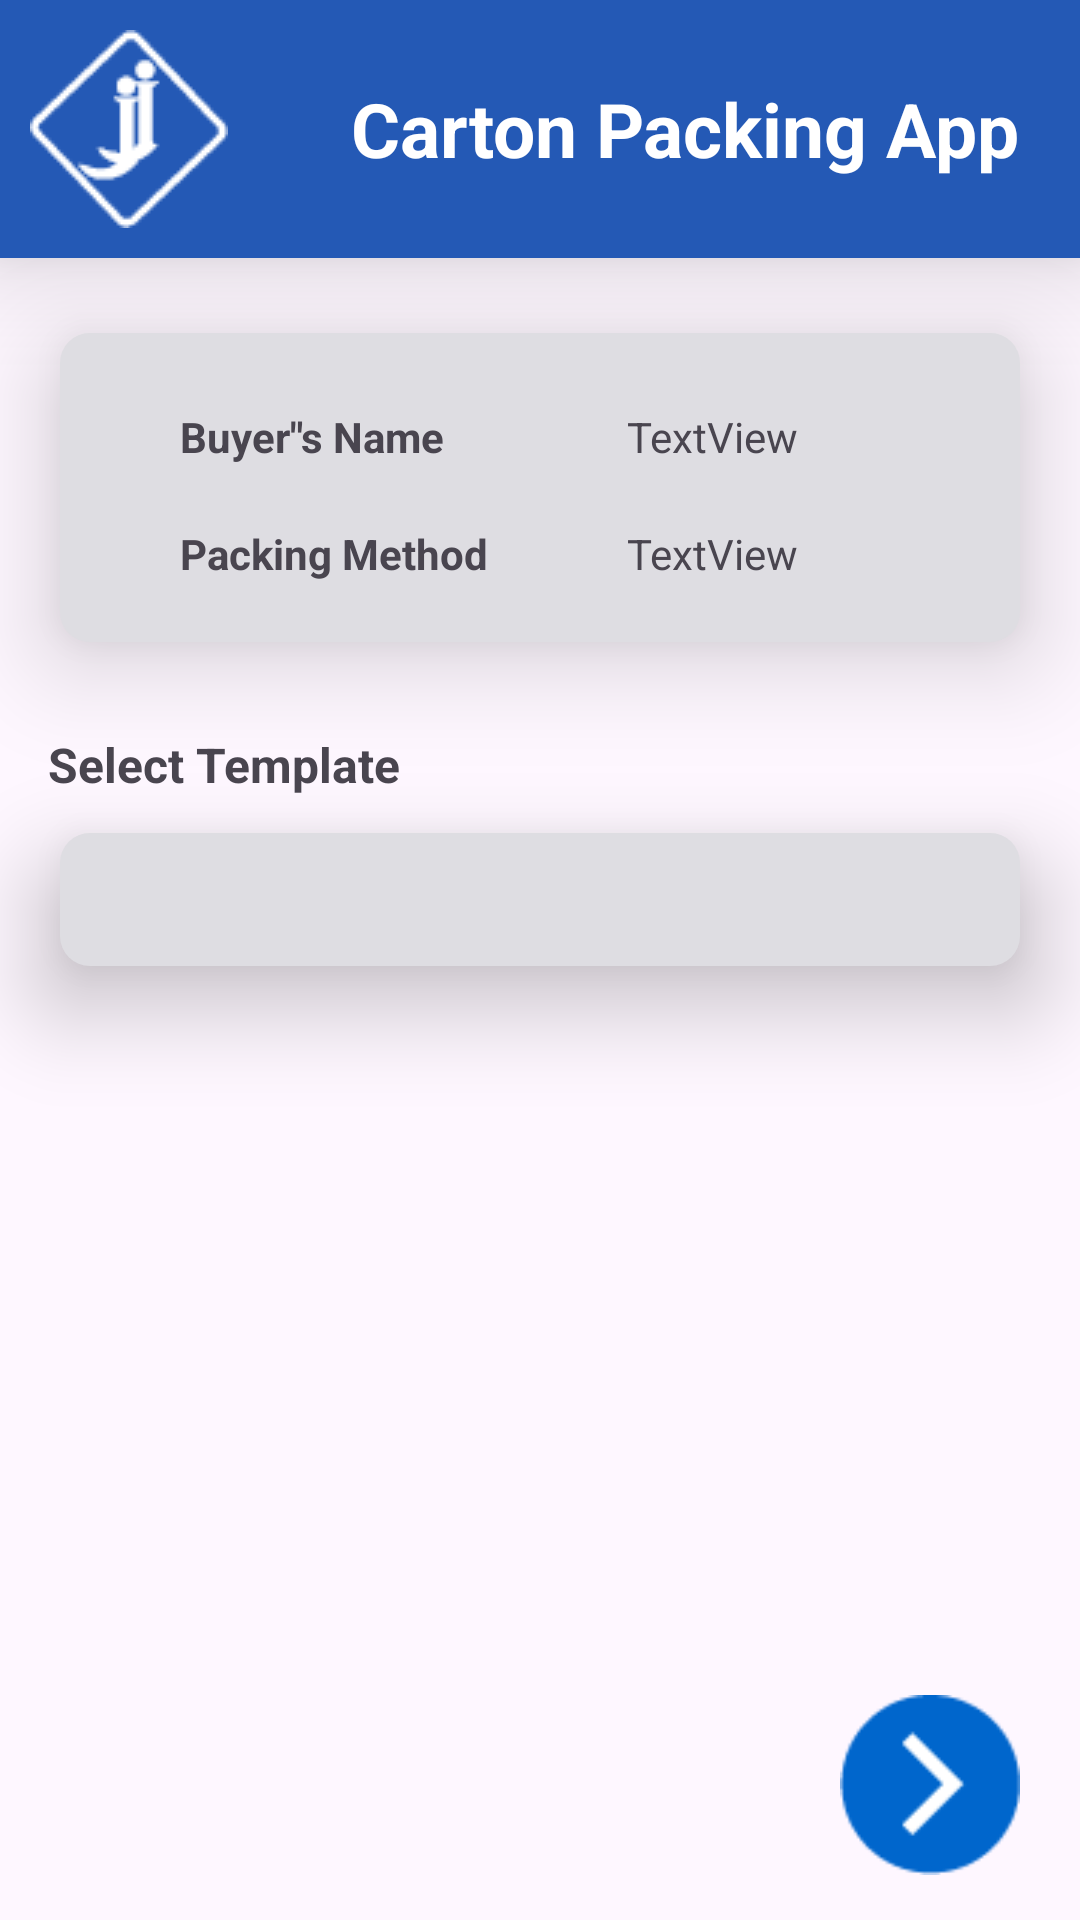

Point at icon controls on the screen. Image size 1080w x 1920h, points as [x,y].
forward: [930,1785]
